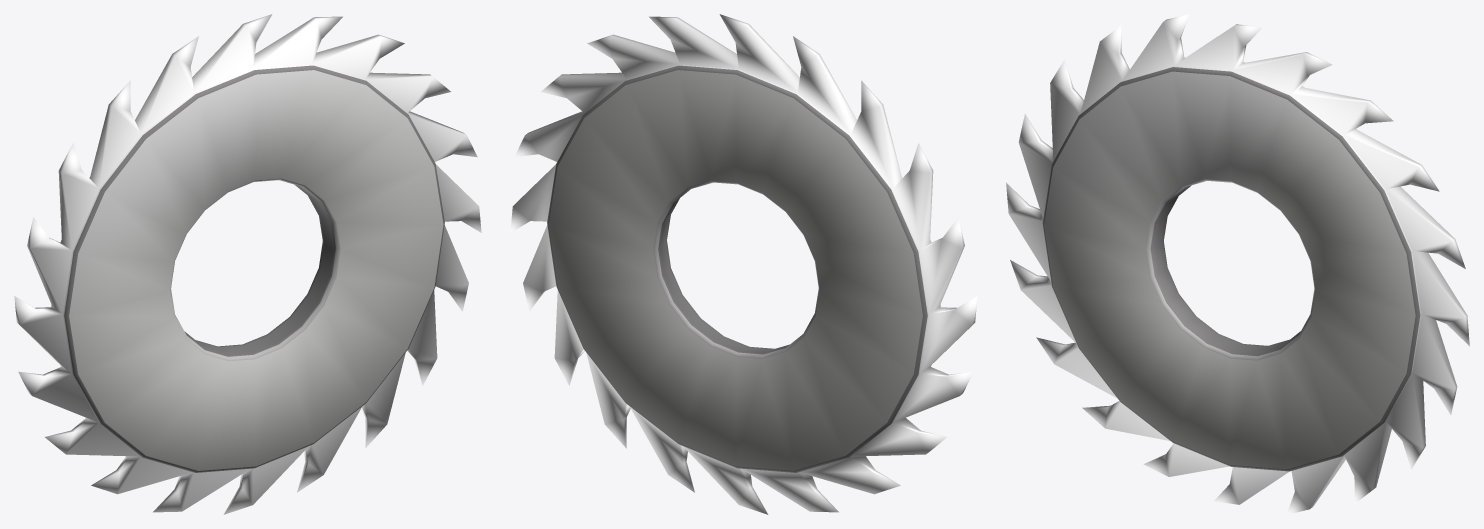
Rendered from Saw.fbx.
The picture shows the model from 3 angles, left to right: view 1: azimuth 30°, elevation 25°; view 2: azimuth 150°, elevation 25°; view 3: azimuth 330°, elevation 25°; orthographic projection.
Parts seen in each view (by area): view 1: Circle.001; view 2: Circle.001; view 3: Circle.001.
Boxes of the visible parts, x1,y1,x2,y2 form: Circle.001: (14,14,481,514); Circle.001: (510,14,977,514); Circle.001: (1006,14,1469,514).
Size of the model in its own units: 245 by 245 by 15.
